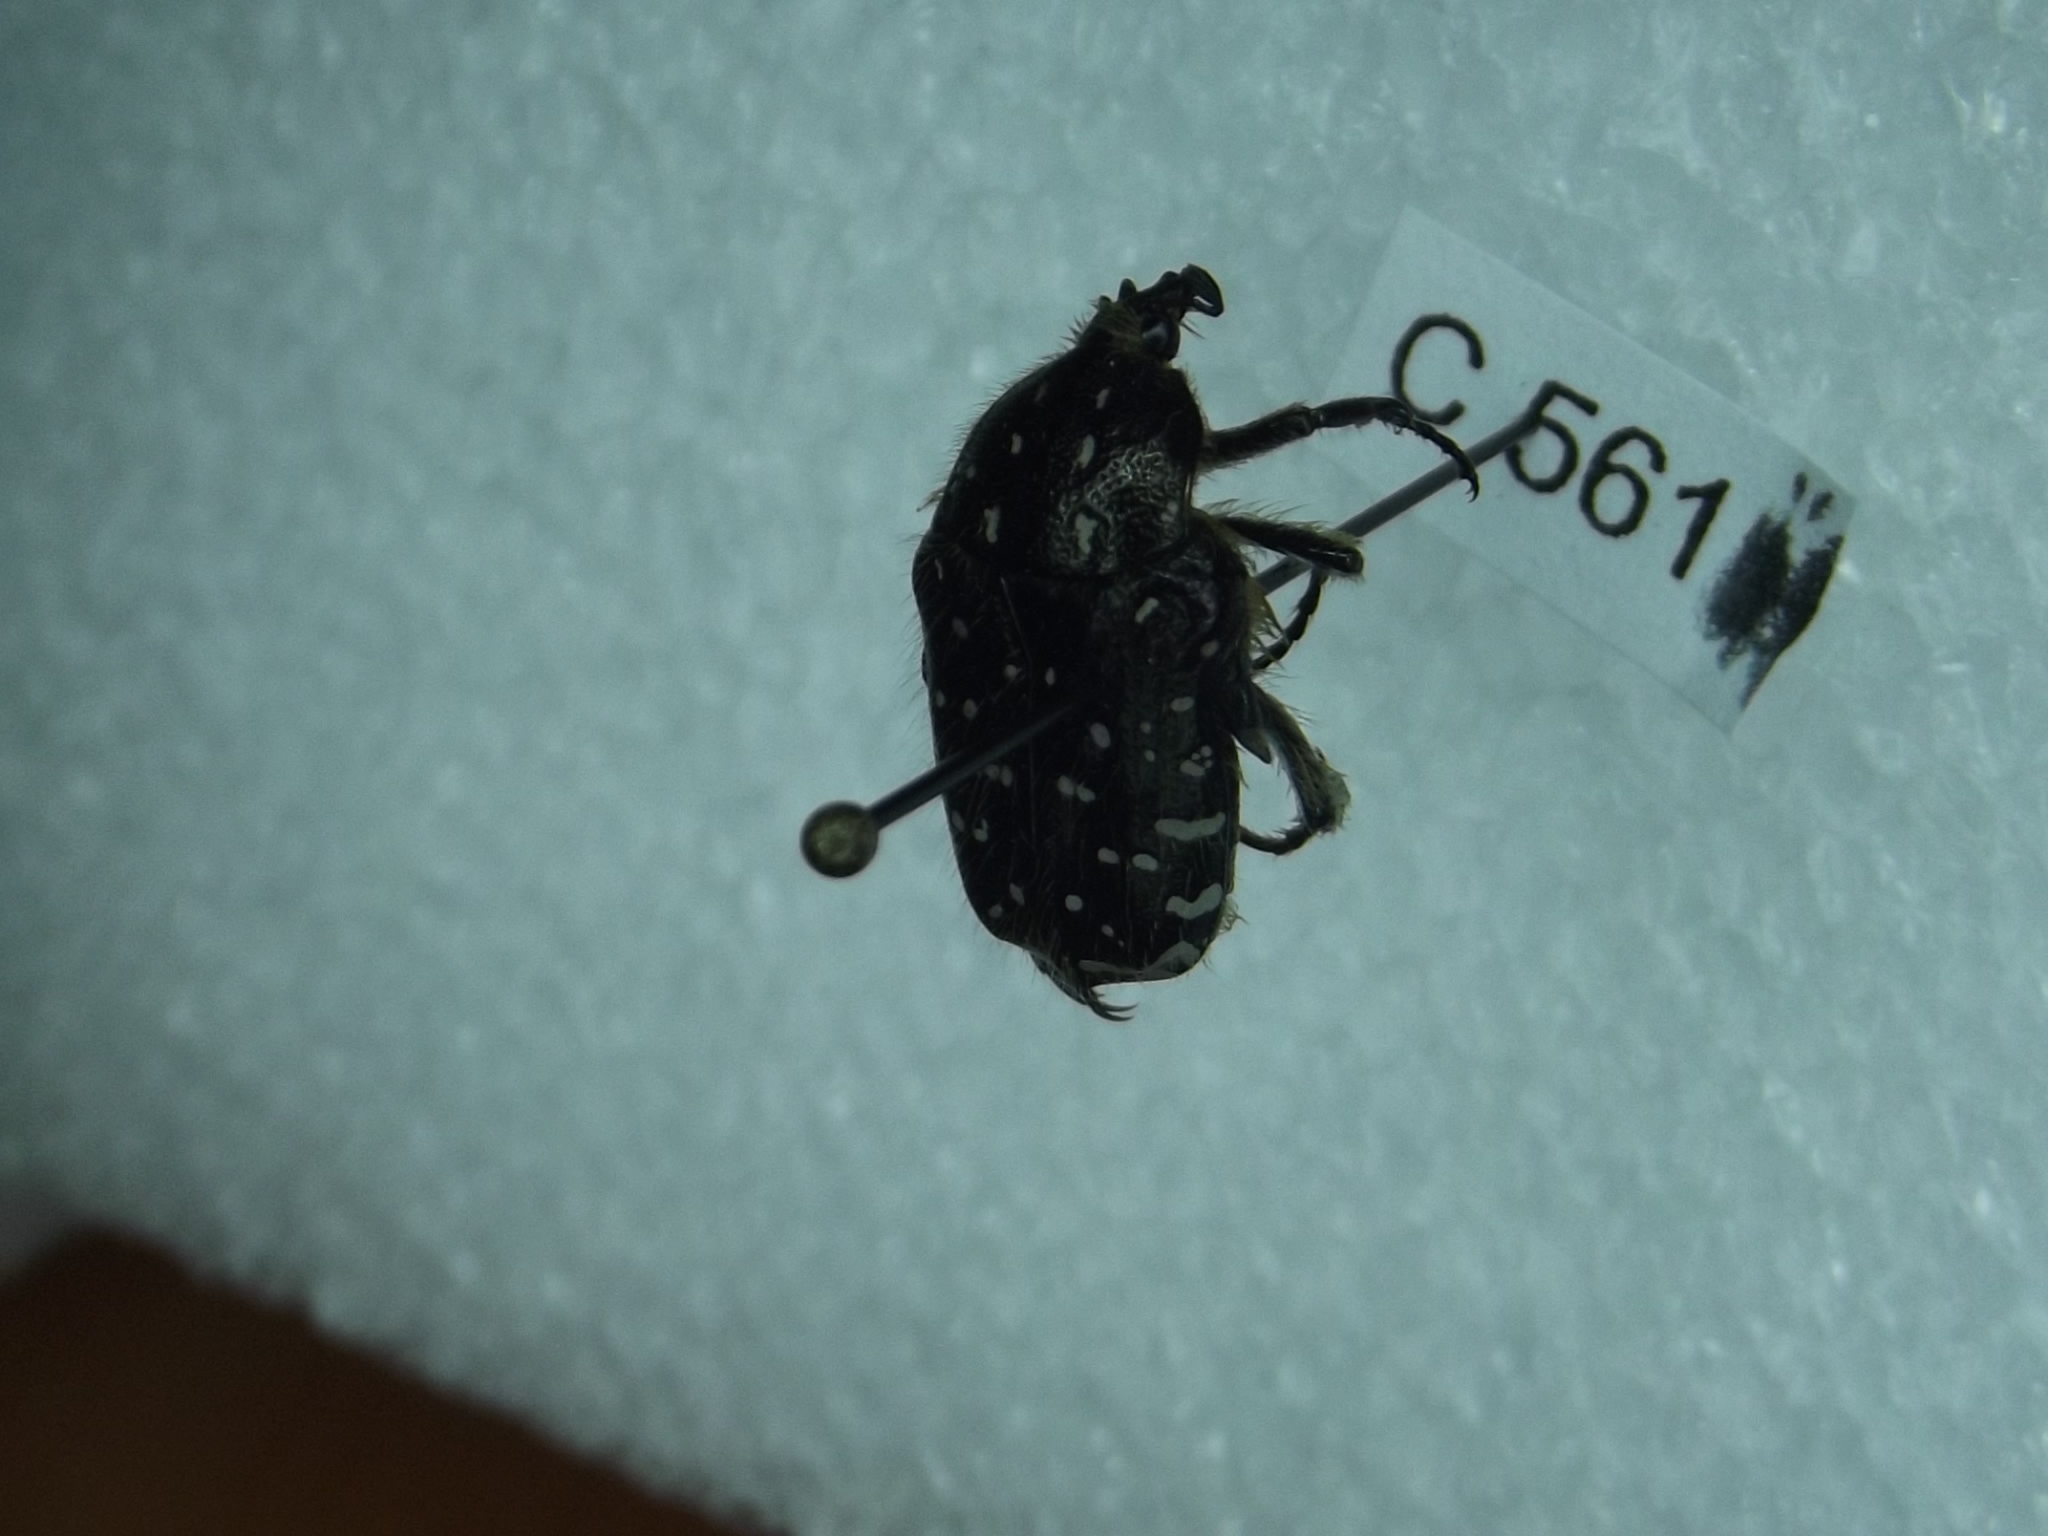Oxythyrea_funesta: (918, 229, 1485, 1054)
